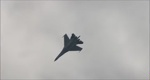maybay_muctieu: (53, 30, 82, 63)
